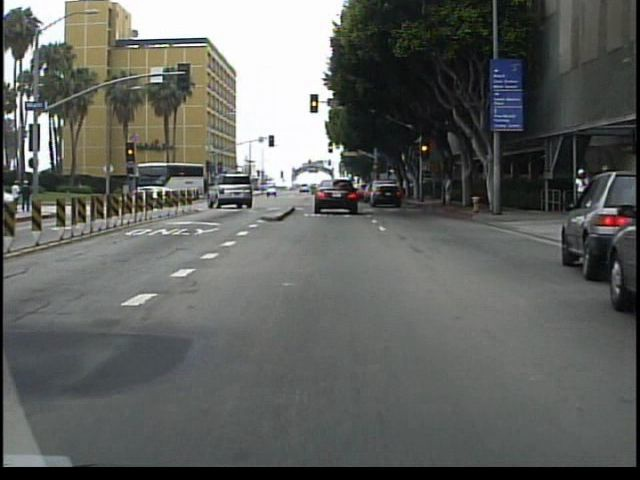person: (439, 168, 455, 210), (24, 178, 35, 214), (13, 177, 24, 208)
